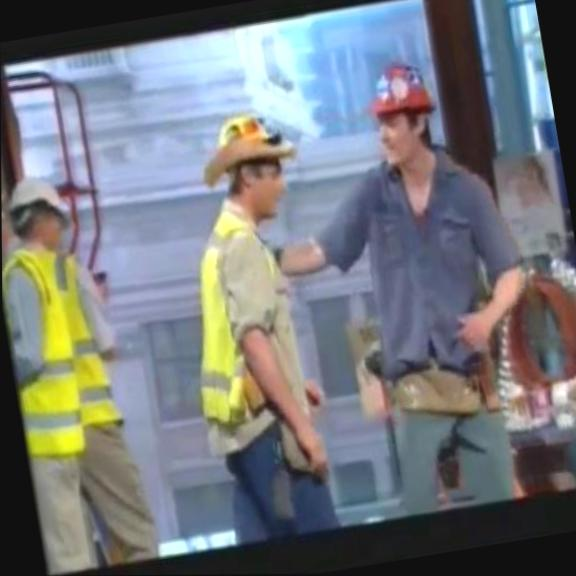safety_vest: (166, 199, 300, 429), (2, 231, 86, 464), (48, 235, 128, 432)
